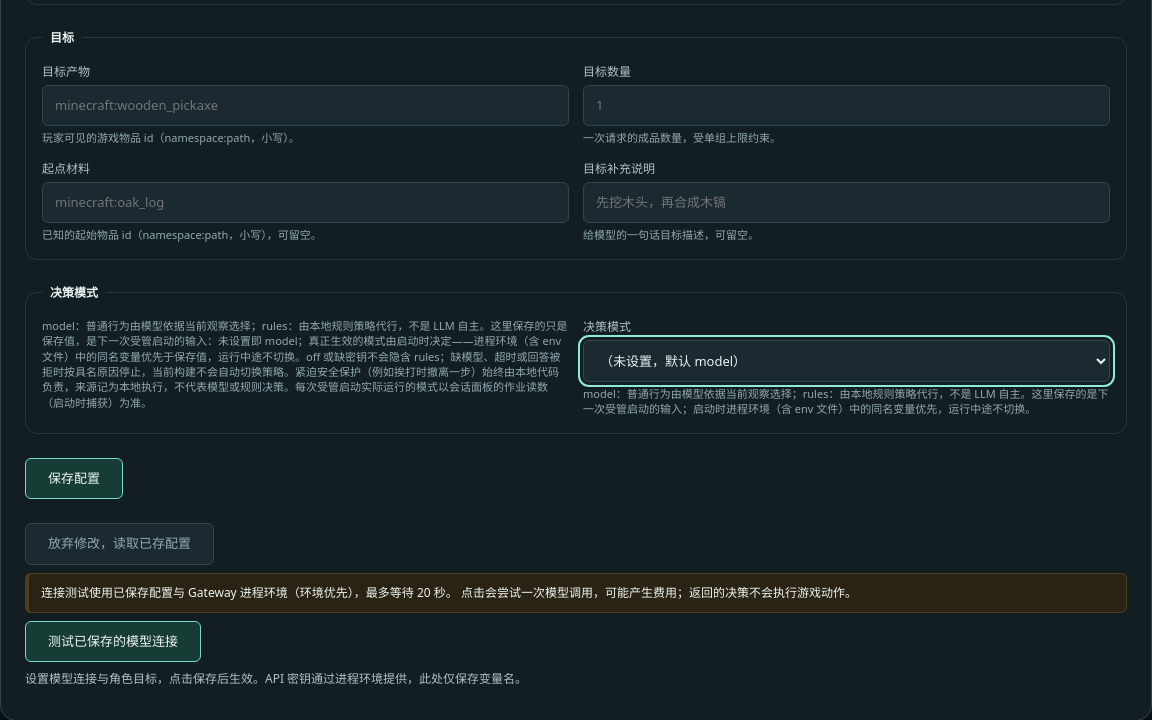
决策模式：明确选择，规则不是 LLM 自主 › 键盘选择 rules 并保存：请求携带 decision_policy=rules，读回保持该选择
(page scrolled)
Select "rules" in the dropdown with test id "config-input-decision_policy" at (846, 361), box [583,340,1110,382]
(page scrolled)
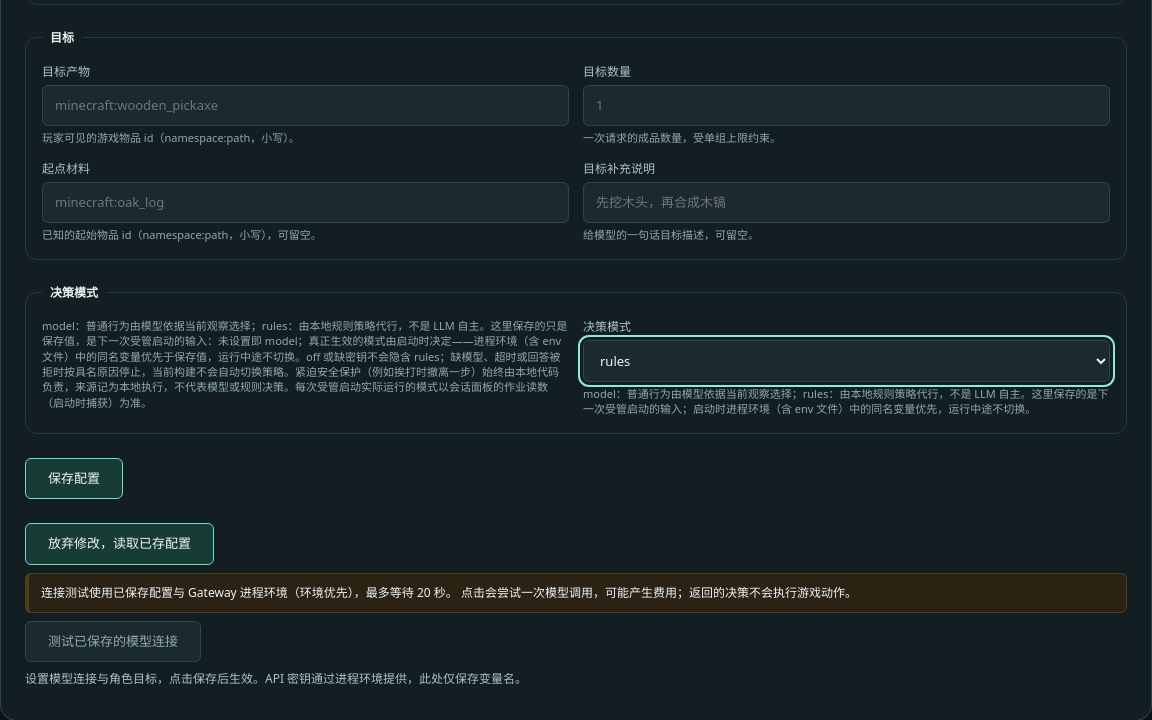
Click the button with test id "config-submit" at (74, 478), box [25,458,123,499]
(page scrolled)
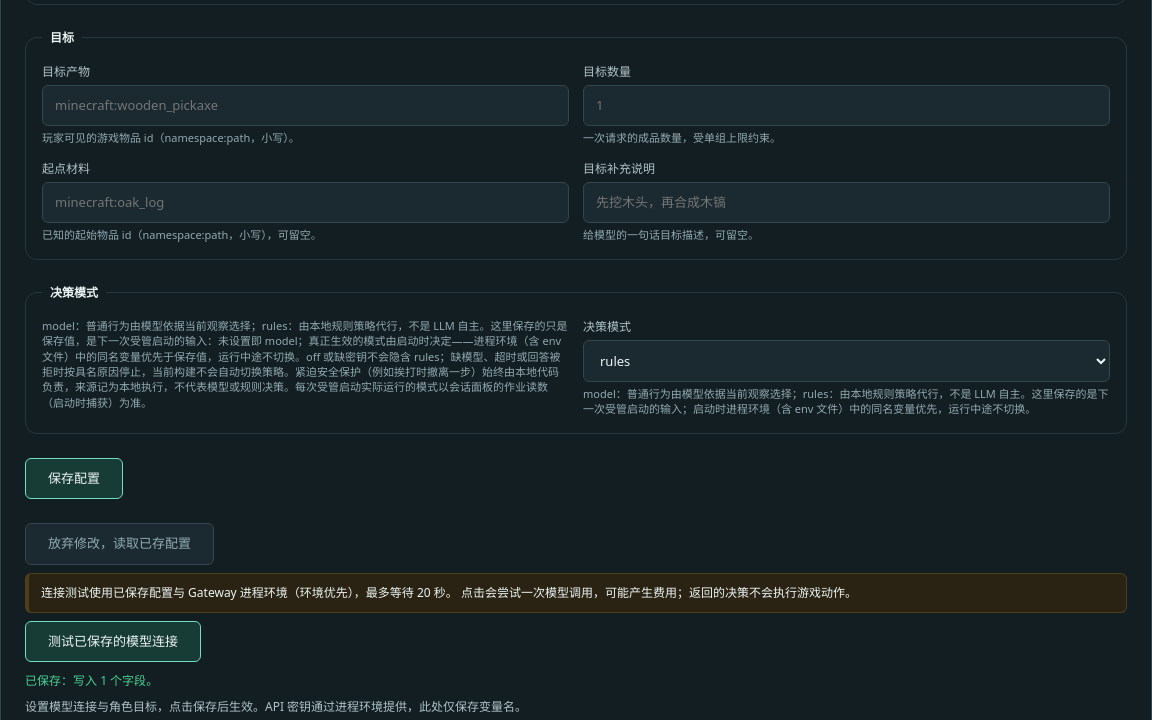
Check: the text with test id "config-result" shows "已保存：写入 1 个字段", box [25,672,158,689]
